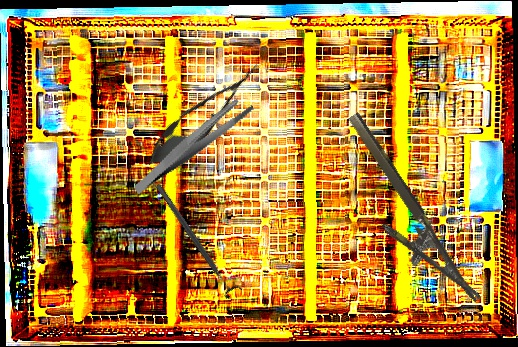Dressing Forceps: (118, 94, 268, 195)
Fixation Ring: (149, 178, 244, 302)
Micro Scissor: (137, 52, 271, 179)
Needle Holder: (322, 111, 482, 322)
